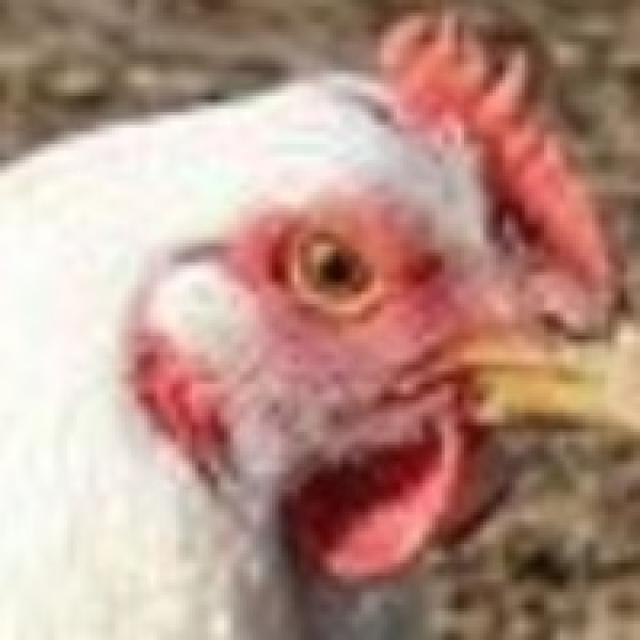Healthy: (3, 13, 640, 640)
